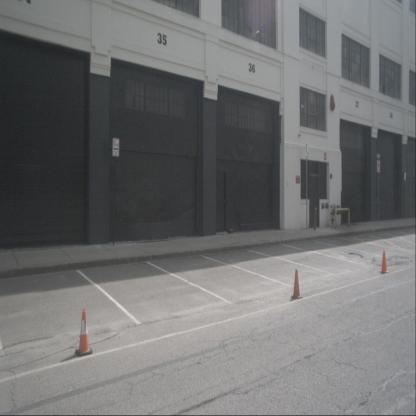cone: (75, 308, 93, 356), (291, 270, 302, 298), (379, 250, 389, 272)
